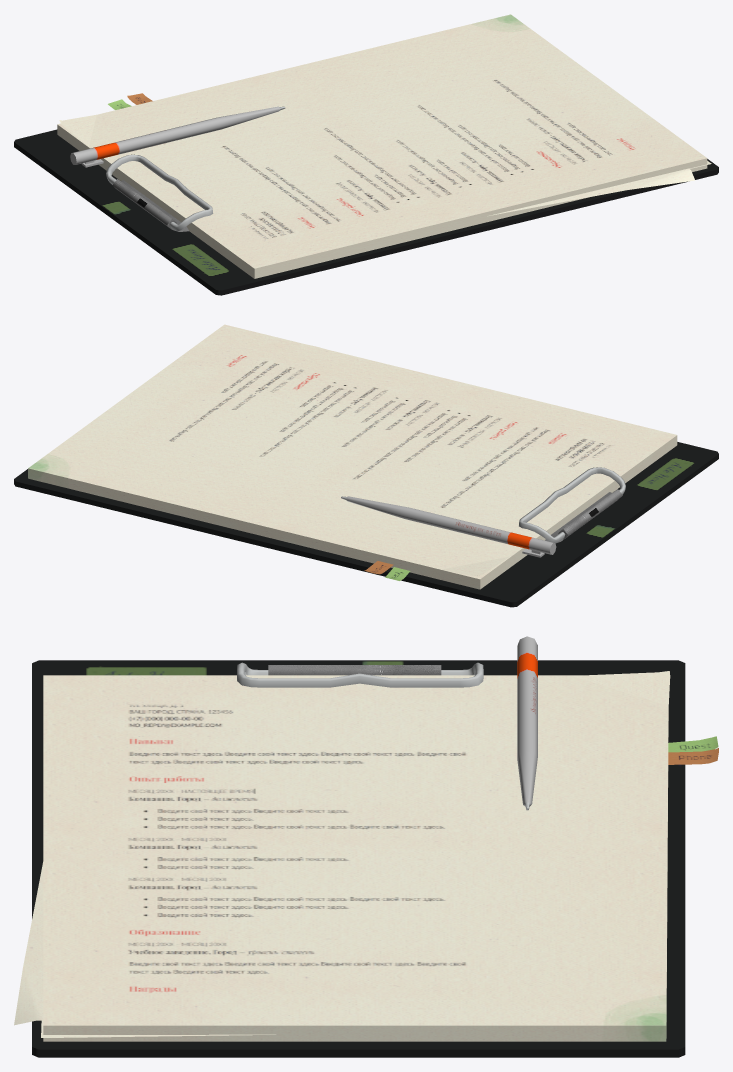
File: phieukhaosat.fbx
The picture shows the model from 3 angles, top to bottom: view 1: azimuth 30°, elevation 25°; view 2: azimuth 150°, elevation 25°; view 3: azimuth 270°, elevation 25°; orthographic projection. The views are drawn at different scales.
Visible parts, largest first — view 1: p_khaosat; view 2: p_khaosat; view 3: p_khaosat.
Boxes of the visible parts, bbox=[...] form: p_khaosat: bbox=[14, 14, 718, 295]; p_khaosat: bbox=[14, 324, 718, 607]; p_khaosat: bbox=[14, 636, 718, 1057].
Bounding box in the file's own units: 31 × 1.57 × 23.74.
1 material, 1 textured.
